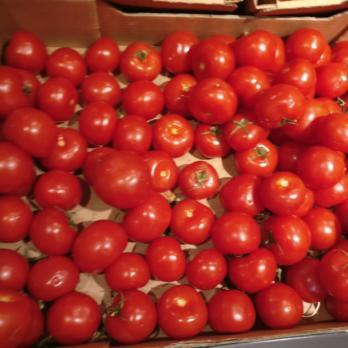Tomato: (4, 36, 188, 337), (180, 36, 348, 321)
